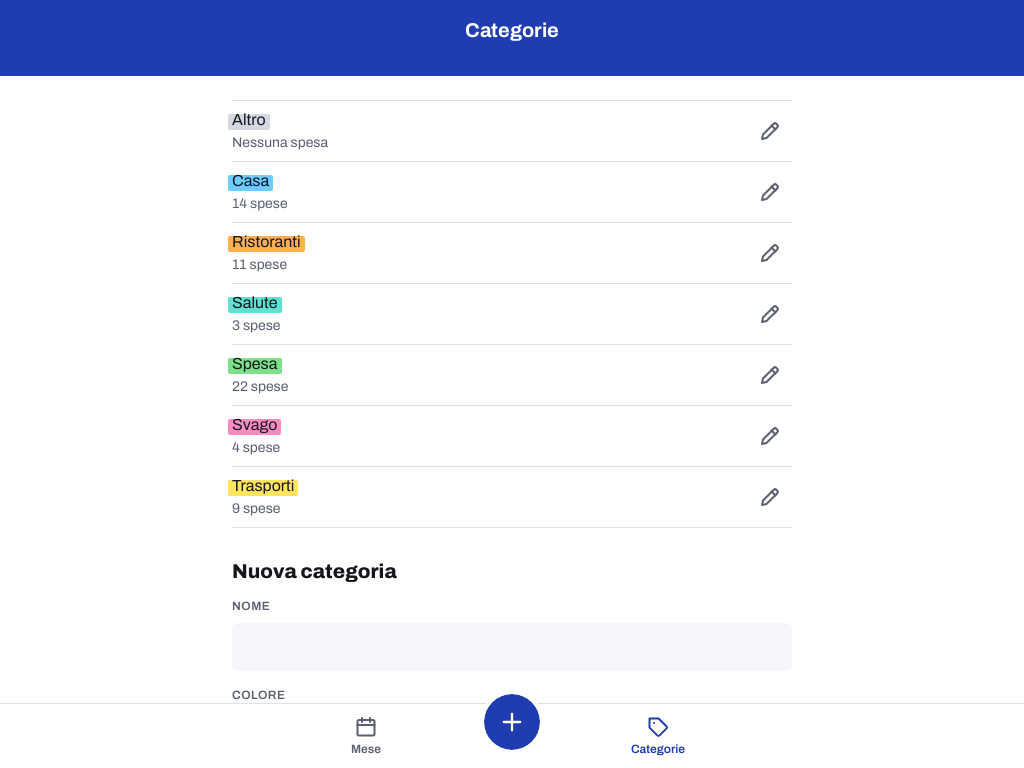
Test: schermata Categorie › spiega perché non si può eliminare una categoria con spese
Click the button named "Modifica Casa": click(770, 192) [748,170,792,214]
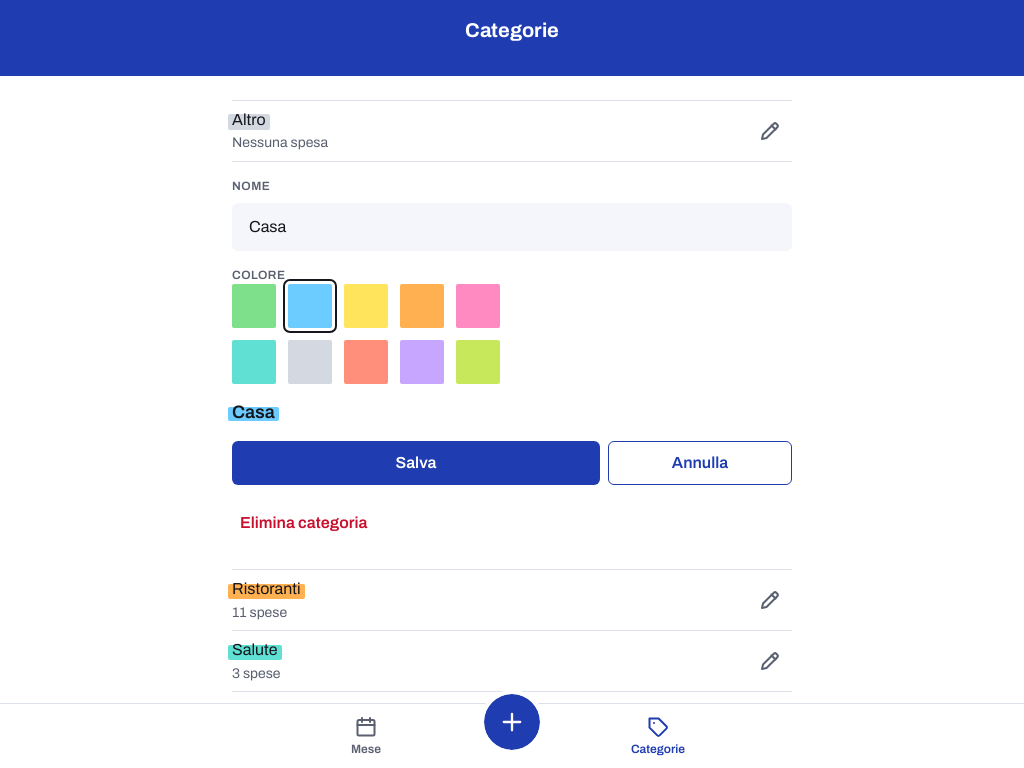
Click the button "Elimina categoria": click(304, 523) [232,501,376,545]
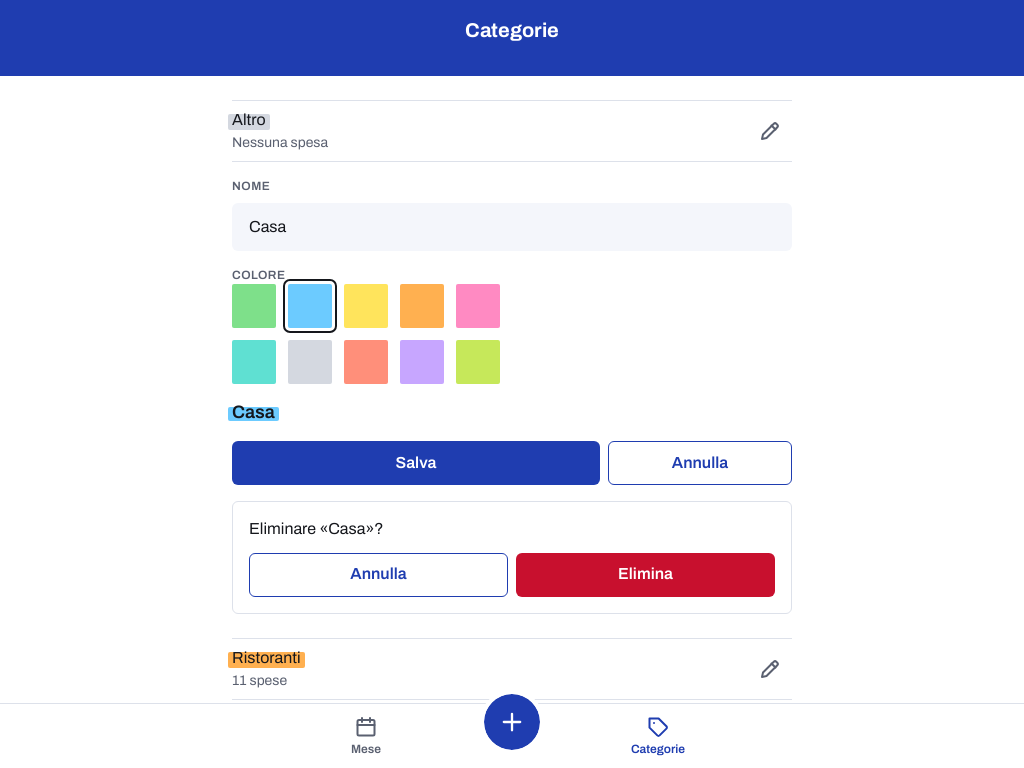
Expected: the text "Eliminare «Casa»?" is shown, [249,520,384,537]
Click the button "Elimina": click(646, 575) [516,553,775,597]
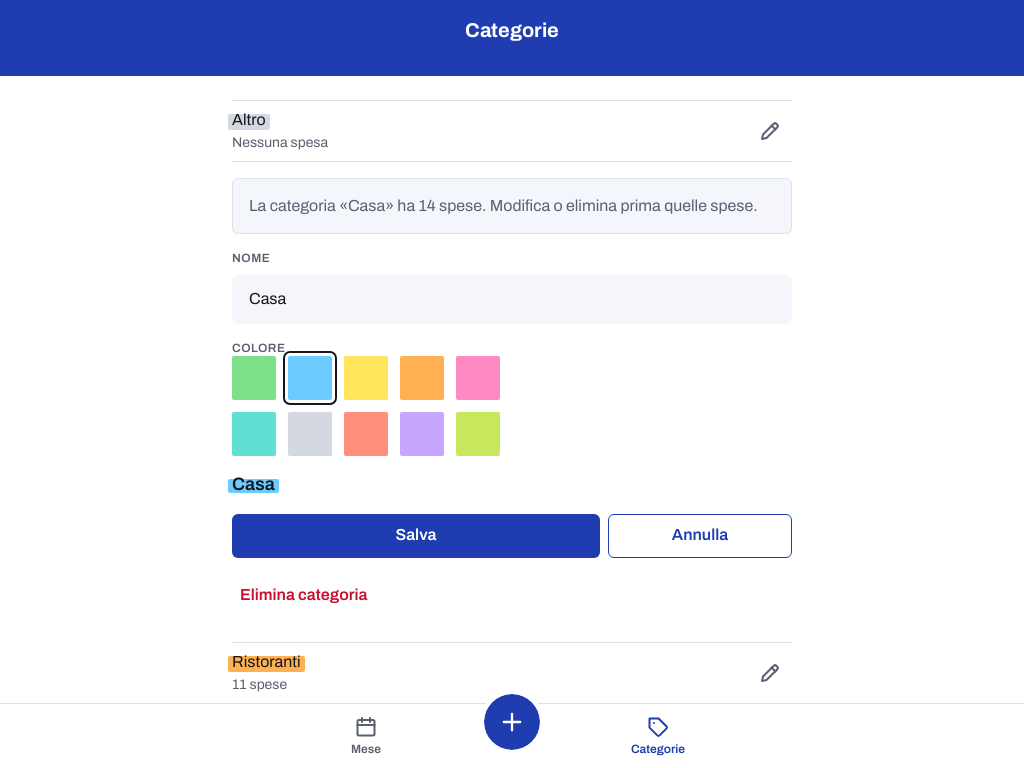
Expected: the text "La categoria «Casa» ha 14 spese. Modifica o elimina prima quelle spese." is shown, [249,195,758,217]
